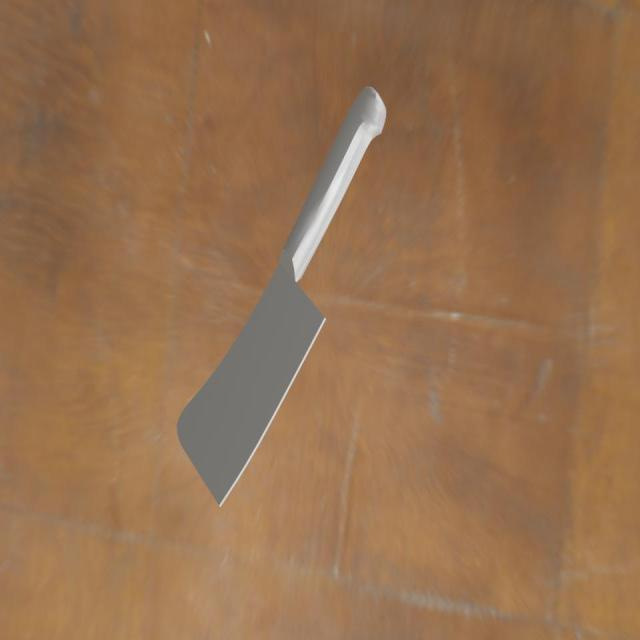knife: (278, 76, 389, 281)
